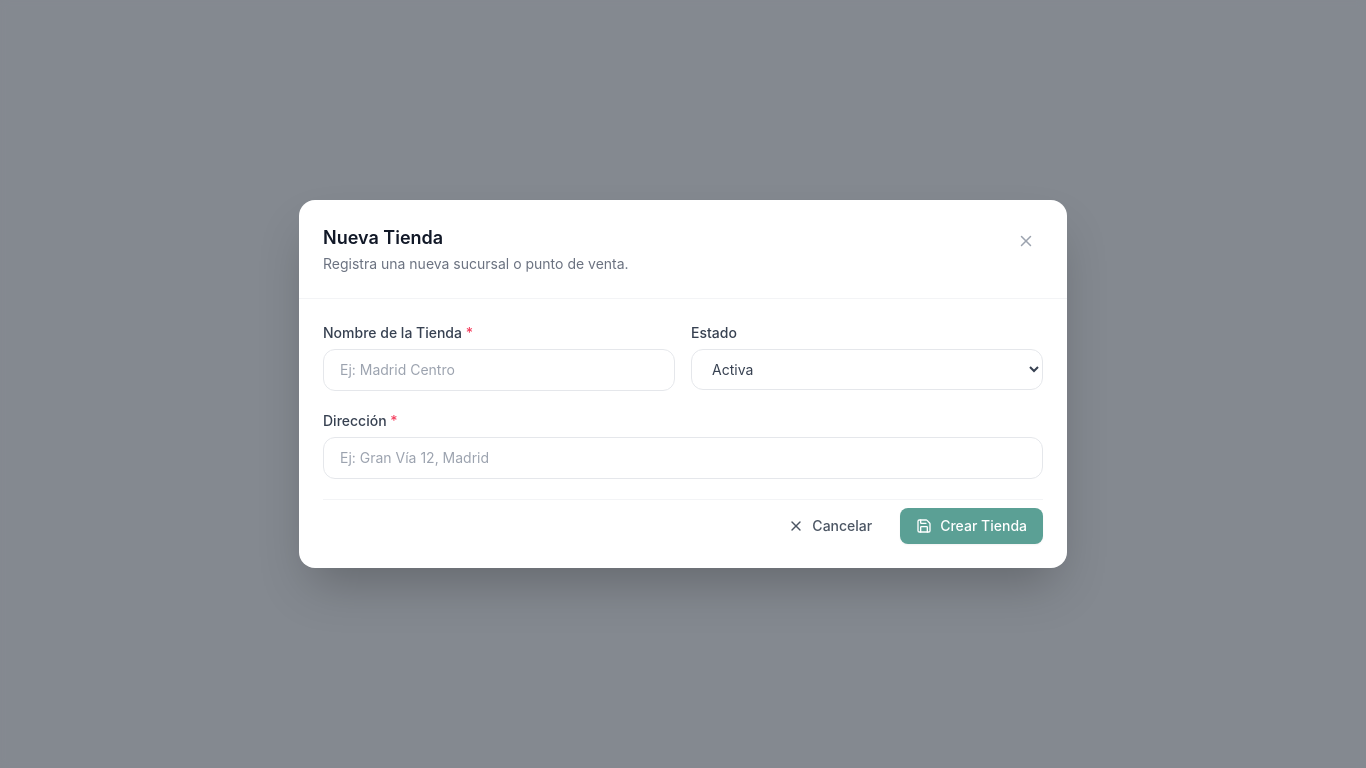
Test: StoreForm Component › shows validation errors when submitting an empty form
Step 1. Click the button "Crear Tienda" → (972, 526), box [900, 508, 1043, 544]
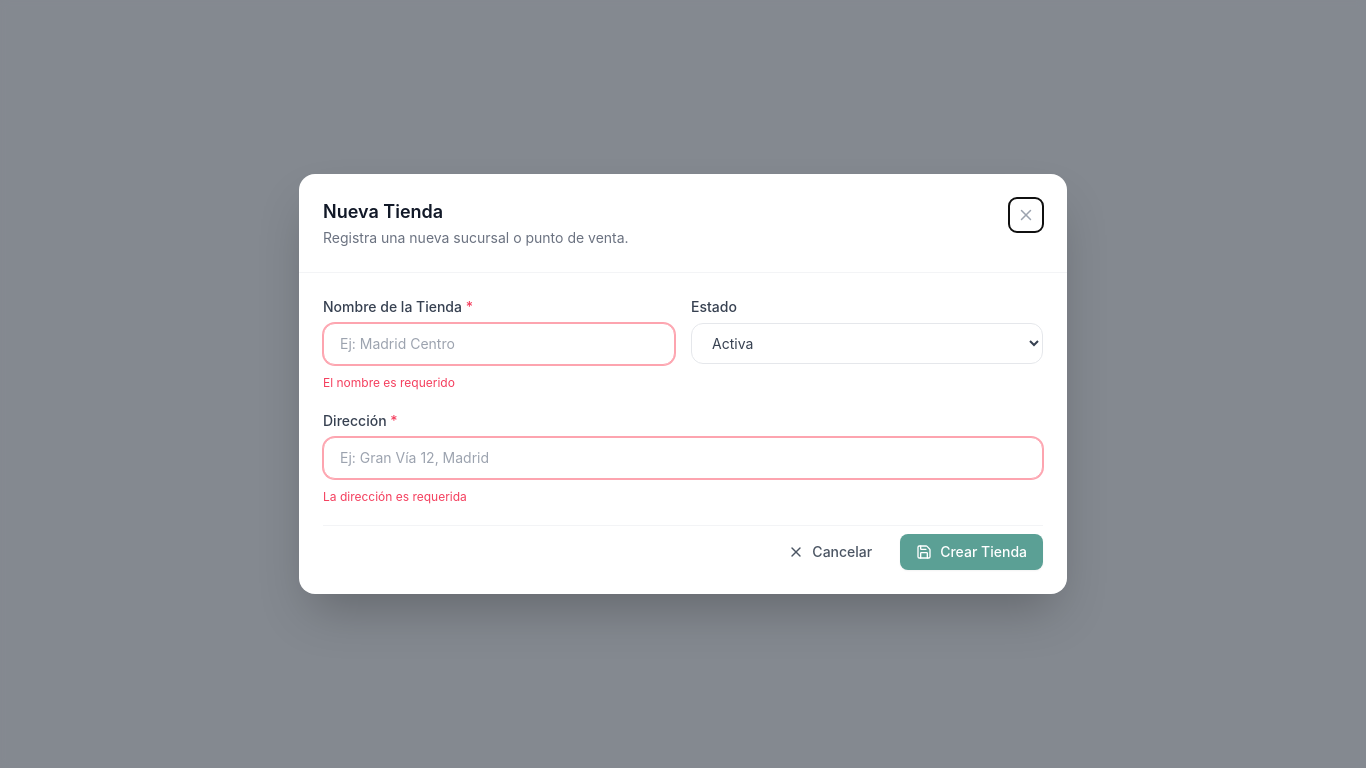
expect the text "El nombre es requerido" is shown: met, box [323, 375, 455, 390]
expect the text "La dirección es requerida" is shown: met, box [323, 489, 467, 504]
